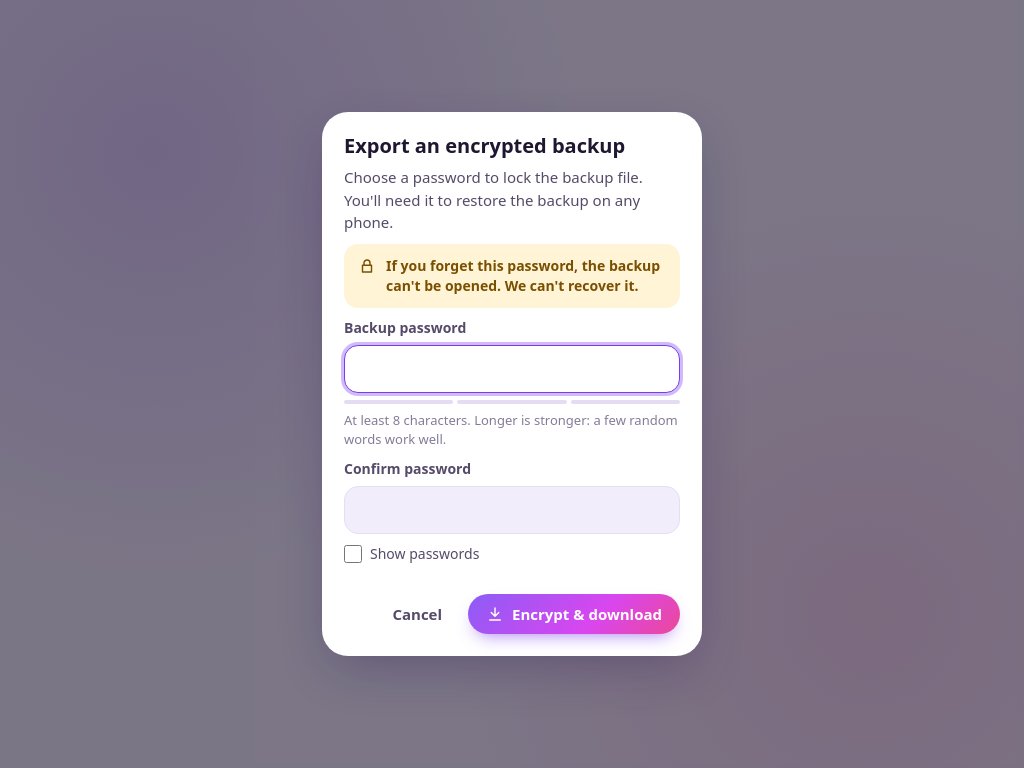
Scenario: ExportBackupDialog › shows a failure inside the dialog and lets the user try again
Later steps or results of the test are not shown.
Type "tacos on tuesday 42" into the password field labelled "Backup password".
click(512, 369); type("tacos on tuesday 42")  # box [344,345,680,393]
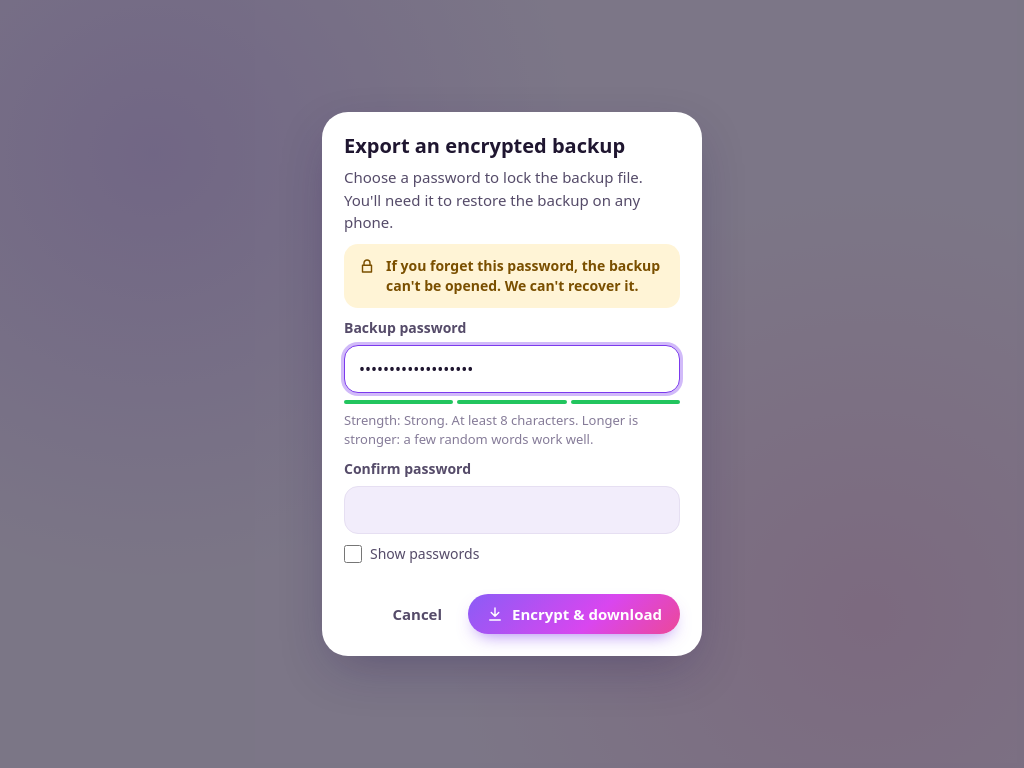
Type "tacos on tuesday 42" into the password field labelled "Confirm password".
click(512, 510); type("tacos on tuesday 42")  # box [344,486,680,534]
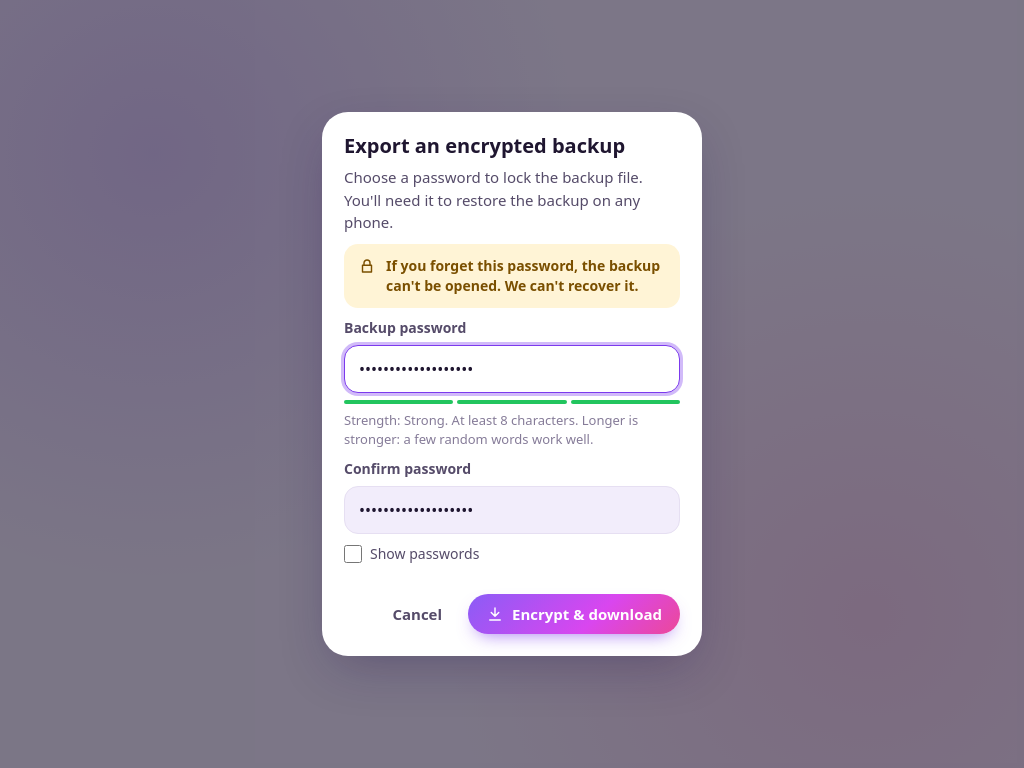
Click the button "Encrypt & download".
click(574, 614)  # box [468,594,680,634]
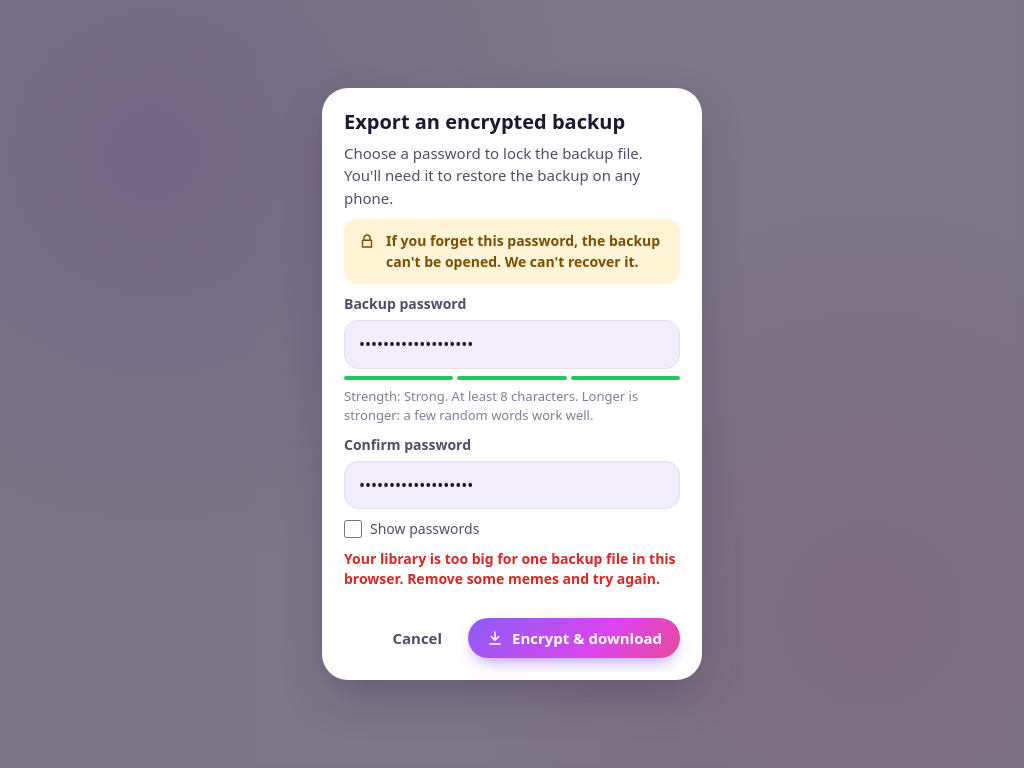
Expected: the message shows "too big", [344,549,676,588]
